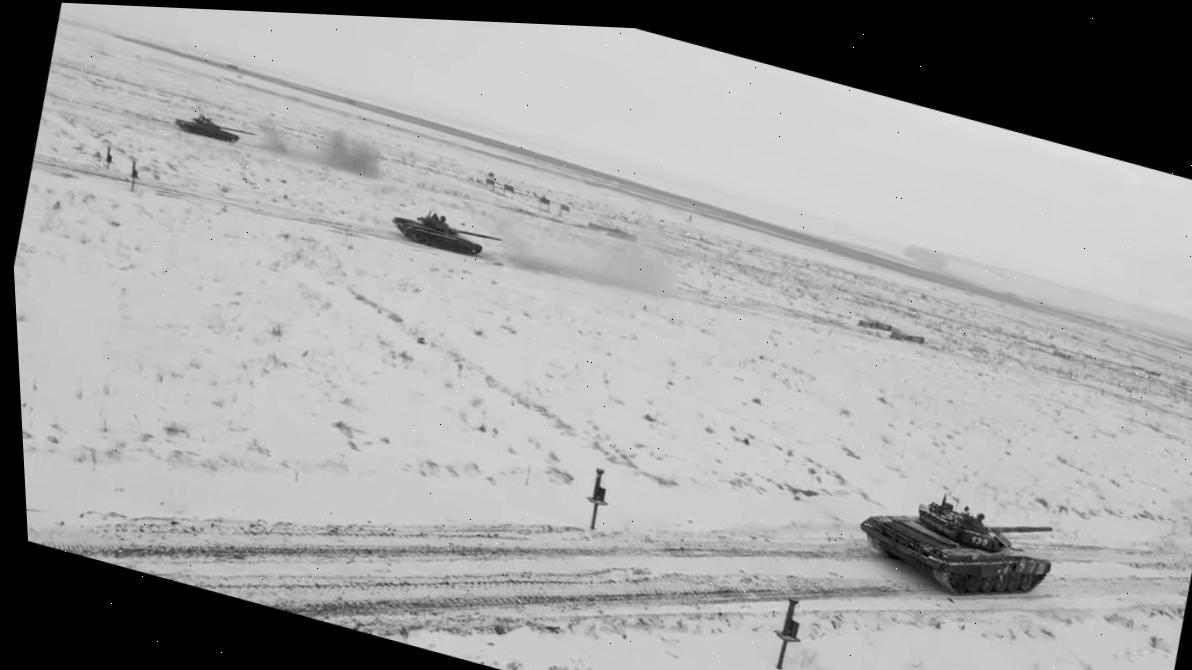tank: (845, 472, 1066, 622), (388, 202, 507, 267), (172, 107, 259, 151)
